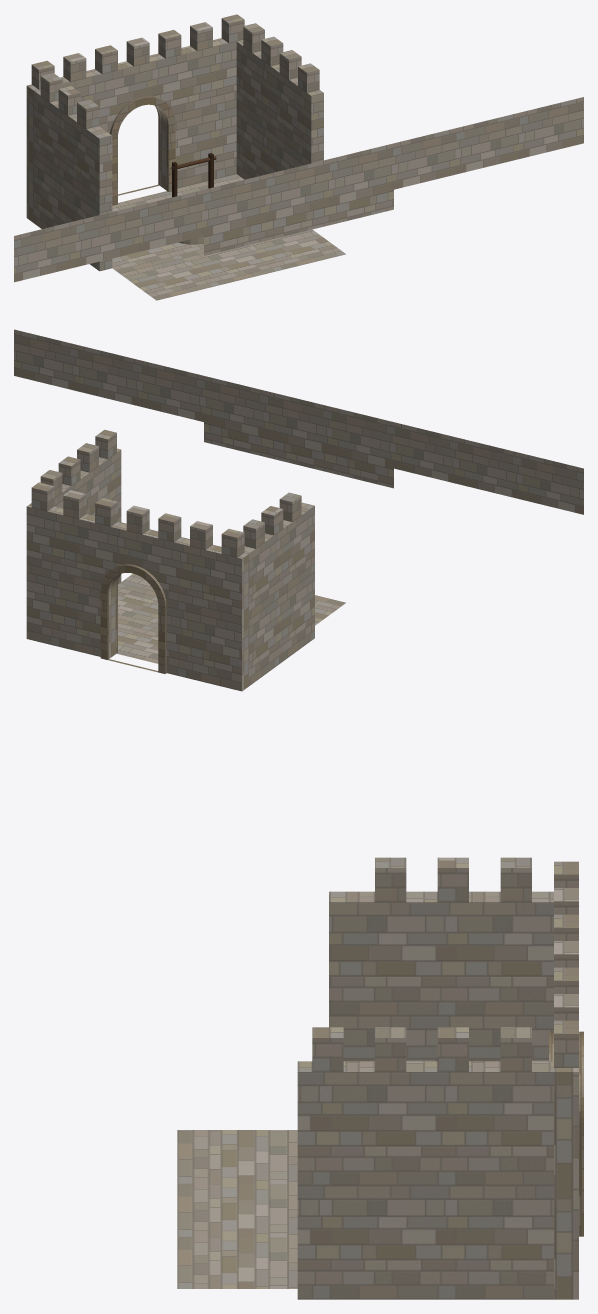
The model's file is patio.glb.
3 views of the same model, one above another, from view 1: azimuth 30°, elevation 25°; view 2: azimuth 150°, elevation 25°; view 3: azimuth 270°, elevation 25° (orthographic). The views are drawn at different scales.
Parts seen in each view (by area): view 1: patio-0, patio-1; view 2: patio-0; view 3: patio-0.
Part boxes in pixels (<box>): patio-0: <box>14,14,583,300</box>; patio-1: <box>171,153,216,197</box>; patio-0: <box>14,329,583,691</box>; patio-0: <box>177,857,583,1299</box>.
Size of the model in its own units: 18 by 4.6 by 9.08.
Materials: 2 (1 with a texture image).
